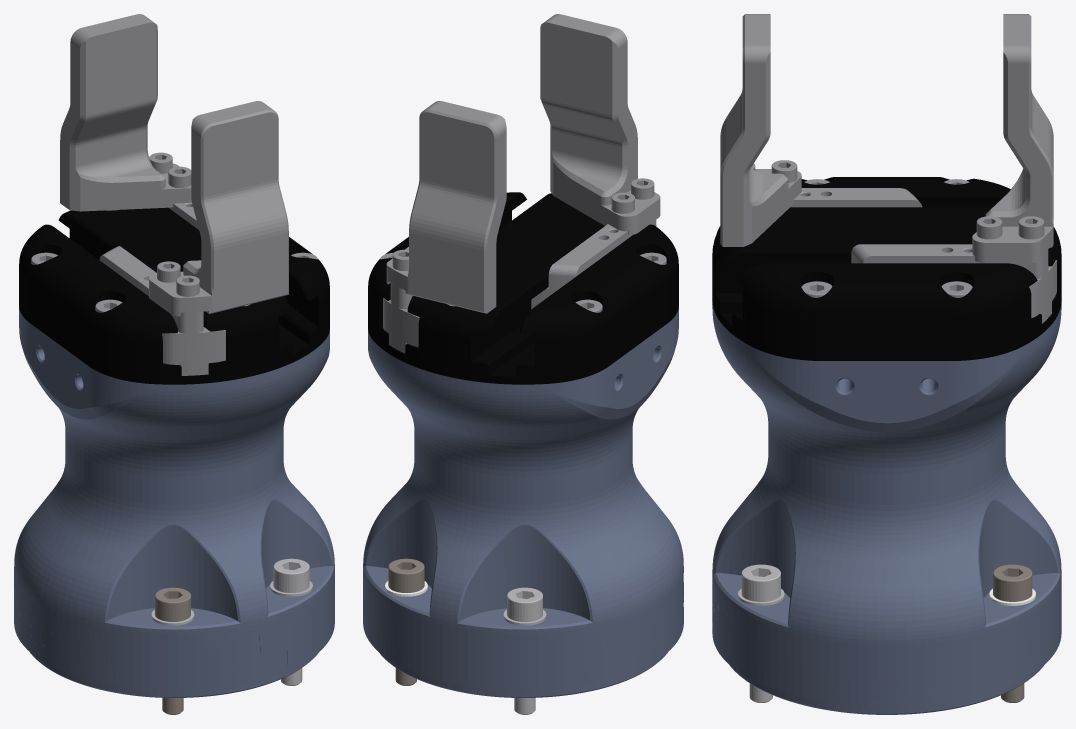
File: robotiq-hand-e.glb
The picture shows the model from 3 angles, left to right: view 1: azimuth 30°, elevation 25°; view 2: azimuth 150°, elevation 25°; view 3: azimuth 270°, elevation 25°; orthographic projection. The views are drawn at different scales.
Visible parts, largest first — view 1: robotiq-hand-e; view 2: robotiq-hand-e; view 3: robotiq-hand-e.
Boxes of the visible parts, x1,y1,x2,y2 form: robotiq-hand-e: (14, 14, 334, 714); robotiq-hand-e: (363, 14, 683, 714); robotiq-hand-e: (712, 14, 1061, 714).
Size of the model in its own units: 75 by 151 by 75.
